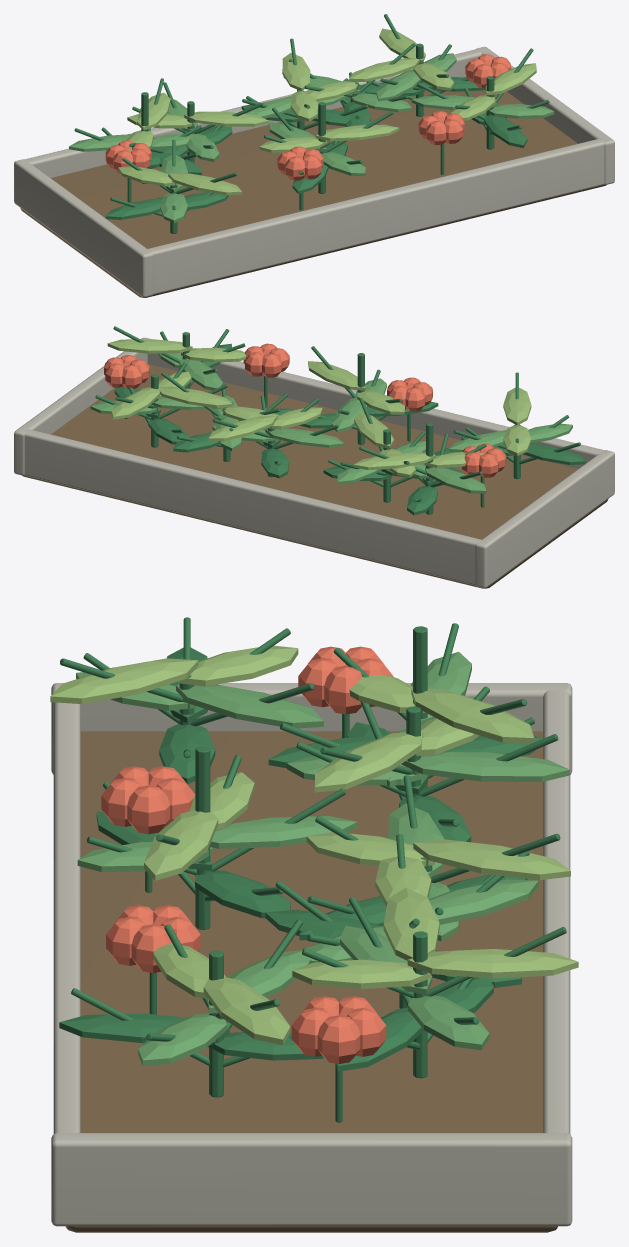
Rendered from massif_tropical_baie_des_rois.glb.
3 views of the same model, one above another, from view 1: azimuth 30°, elevation 25°; view 2: azimuth 150°, elevation 25°; view 3: azimuth 270°, elevation 25° (orthographic). The views are drawn at different scales.
Parts seen in each view (by area): view 1: Massif_terre, Bordure_massif.002, Bordure_massif, Bordure_massif.003, Bordure_massif.001, Feuille_tropicale.011, Feuille_tropicale.017, Feuille_tropicale.005, Feuille_tropicale.023, Feuille_tropicale.027, Feuille_tropicale.029, Feuille_tropicale.028 (+29 smaller); view 2: Massif_terre, Bordure_massif.003, Bordure_massif, Bordure_massif.002, Bordure_massif.001, Feuille_tropicale.029, Feuille_tropicale.035, Feuille_tropicale.023, Feuille_tropicale.037, Feuille_tropicale.041, Feuille_tropicale.031, Feuille_tropicale.047 (+28 smaller); view 3: Massif_terre, Bordure_massif.001, Bordure_massif.002, Bordure_massif.003, Bordure_massif, Feuille_tropicale.047, Feuille_tropicale.041, Feuille_tropicale.005, Feuille_tropicale.007, Feuille_tropicale.001, Feuille_tropicale.035, Feuille_tropicale.011 (+50 smaller).
Part boxes in pixels (x1,y1,x2,y2): Massif_terre: (20,76,606,297); Bordure_massif.002: (141,138,604,294); Bordure_massif: (14,159,153,297); Bordure_massif.003: (21,47,487,177); Bordure_massif.001: (476,46,614,184); Feuille_tropicale.011: (184,111,268,126); Feuille_tropicale.017: (315,124,399,141); Feuille_tropicale.005: (168,172,242,195); Feuille_tropicale.023: (349,58,419,81); Feuille_tropicale.027: (484,115,527,148); Feuille_tropicale.029: (485,63,536,95); Feuille_tropicale.028: (486,104,554,118); Massif_terre: (22,363,608,588); Bordure_massif.003: (18,429,487,585); Bordure_massif: (475,450,614,588); Bordure_massif.002: (147,353,604,468); Bordure_massif.001: (14,337,149,475); Feuille_tropicale.029: (107,339,192,353); Feuille_tropicale.035: (353,452,435,469); Feuille_tropicale.023: (158,386,232,408); Feuille_tropicale.037: (265,428,344,447); Feuille_tropicale.041: (208,416,276,441); Feuille_tropicale.031: (425,466,486,493); Feuille_tropicale.047: (111,387,159,419); Massif_terre: (65,731,557,1232); Bordure_massif.001: (51,1133,572,1226); Bordure_massif.002: (53,702,80,1138); Bordure_massif.003: (543,684,570,1138); Bordure_massif: (51,683,572,774); Feuille_tropicale.047: (407,949,578,978); Feuille_tropicale.041: (413,839,570,880); Feuille_tropicale.005: (50,658,198,703); Feuille_tropicale.007: (401,752,569,781); Feuille_tropicale.001: (176,684,323,728); Feuille_tropicale.035: (411,688,534,743); Feuille_tropicale.011: (314,730,421,792).
Size of the model in its own units: 4.86 by 1.17 by 2.33.
